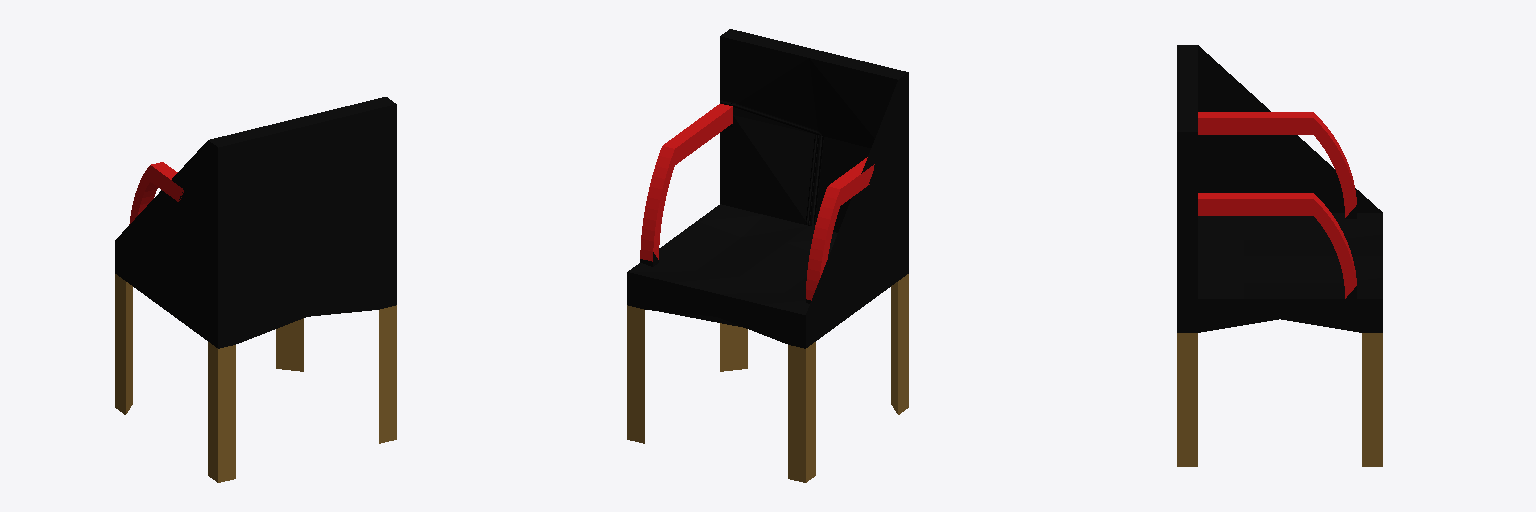
The picture shows the model from 3 angles: view 1: azimuth 30°, elevation 25°; view 2: azimuth 150°, elevation 25°; view 3: azimuth 270°, elevation 25°; orthographic projection.
Parts seen in each view (by area): view 1: Cubo.011_Cubo.039; view 2: Cubo.011_Cubo.039; view 3: Cubo.011_Cubo.039.
Boxes of the visible parts, box(x1,y1,x2,y2) form: Cubo.011_Cubo.039: box(115, 97, 396, 482); Cubo.011_Cubo.039: box(627, 29, 908, 482); Cubo.011_Cubo.039: box(1177, 45, 1382, 466).
Size of the model in its own units: 0.5 by 0.9 by 0.5.
1 materials, 1 textured.